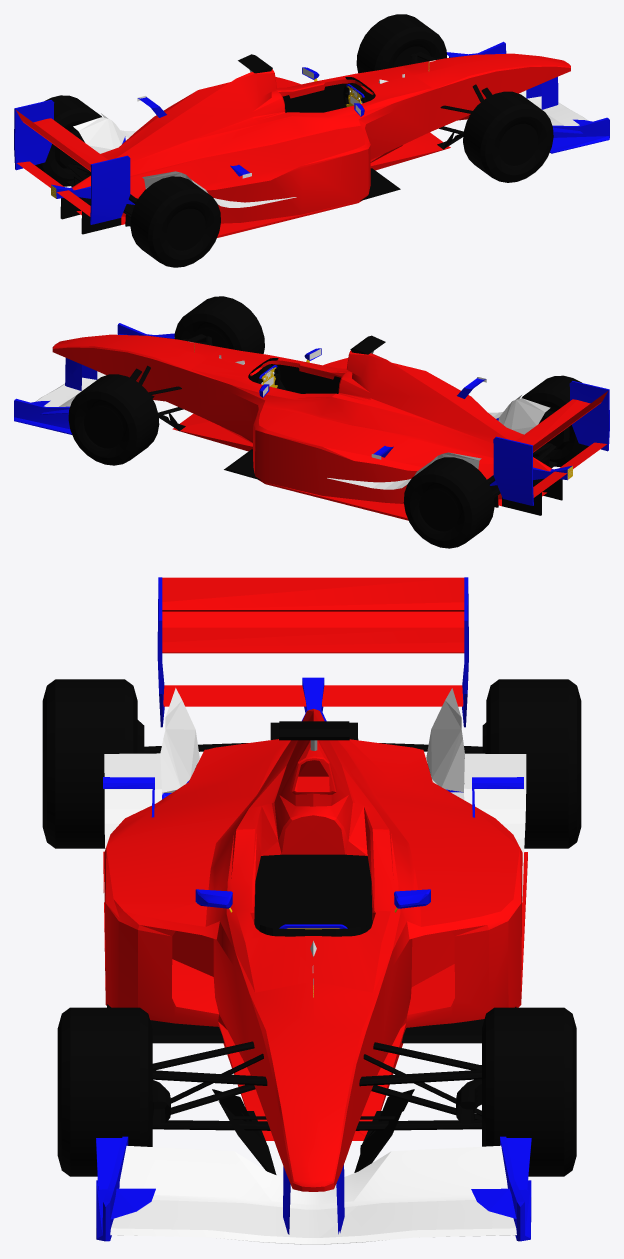
3 renders of one model, top to bottom at view 1: azimuth 30°, elevation 25°; view 2: azimuth 150°, elevation 25°; view 3: azimuth 270°, elevation 25°, orthographic. The views are drawn at different scales.
Visible parts, largest first — view 1: SketchUp_030, SketchUp_217, SketchUp_003, SketchUp_213, SketchUp_018, SketchUp_015, SketchUp_215, SketchUp_177, SketchUp_026, SketchUp_041, SketchUp_012, SketchUp_060 (+6 smaller); view 2: SketchUp_030, SketchUp_213, SketchUp_215, SketchUp_003, SketchUp_015, SketchUp_018, SketchUp_217, SketchUp_179, SketchUp_027, SketchUp_183, SketchUp_012, SketchUp_060 (+7 smaller); view 3: SketchUp_030, SketchUp_028, SketchUp_213, SketchUp_003, SketchUp_010, SketchUp_012, SketchUp_217, SketchUp_215, SketchUp_014, SketchUp_190, SketchUp_019, SketchUp_036 (+17 smaller).
Part boxes in pixels (x1=…): SketchUp_030: x1=71, y1=53, x2=570, y2=237; SketchUp_217: x1=130, y1=176, x2=220, y2=267; SketchUp_003: x1=463, y1=91, x2=553, y2=182; SketchUp_213: x1=356, y1=14, x2=446, y2=73; SketchUp_018: x1=90, y1=155, x2=130, y2=224; SketchUp_015: x1=14, y1=100, x2=54, y2=170; SketchUp_215: x1=35, y1=95, x2=101, y2=186; SketchUp_177: x1=282, y1=83, x2=361, y2=112; SketchUp_026: x1=550, y1=117, x2=609, y2=153; SketchUp_041: x1=73, y1=117, x2=128, y2=153; SketchUp_012: x1=22, y1=118, x2=107, y2=171; SketchUp_060: x1=60, y1=197, x2=134, y2=234; SketchUp_030: x1=52, y1=334, x2=552, y2=520; SketchUp_213: x1=68, y1=374, x2=159, y2=465; SketchUp_215: x1=403, y1=457, x2=494, y2=548; SketchUp_003: x1=174, y1=296, x2=264, y2=353; SketchUp_015: x1=493, y1=436, x2=533, y2=505; SketchUp_018: x1=569, y1=381, x2=609, y2=451; SketchUp_217: x1=522, y1=375, x2=588, y2=466; SketchUp_179: x1=262, y1=364, x2=340, y2=393; SketchUp_027: x1=14, y1=398, x2=72, y2=434; SketchUp_183: x1=499, y1=398, x2=550, y2=434; SketchUp_012: x1=515, y1=399, x2=601, y2=452; SketchUp_060: x1=490, y1=478, x2=562, y2=515; SketchUp_030: x1=103, y1=708, x2=527, y2=1191; SketchUp_028: x1=119, y1=1145, x2=507, y2=1209; SketchUp_213: x1=482, y1=1007, x2=576, y2=1176; SketchUp_003: x1=57, y1=1007, x2=152, y2=1176; SketchUp_010: x1=110, y1=1199, x2=516, y2=1244; SketchUp_012: x1=162, y1=611, x2=464, y2=653; SketchUp_217: x1=42, y1=679, x2=137, y2=848; SketchUp_215: x1=486, y1=679, x2=581, y2=848; SketchUp_014: x1=162, y1=577, x2=464, y2=611; SketchUp_190: x1=254, y1=854, x2=372, y2=930; SketchUp_019: x1=163, y1=685, x2=463, y2=706; SketchUp_036: x1=152, y1=1085, x2=481, y2=1130.
Bounding box in the file's own units: 0.8888 × 0.4016 × 0.2049.
